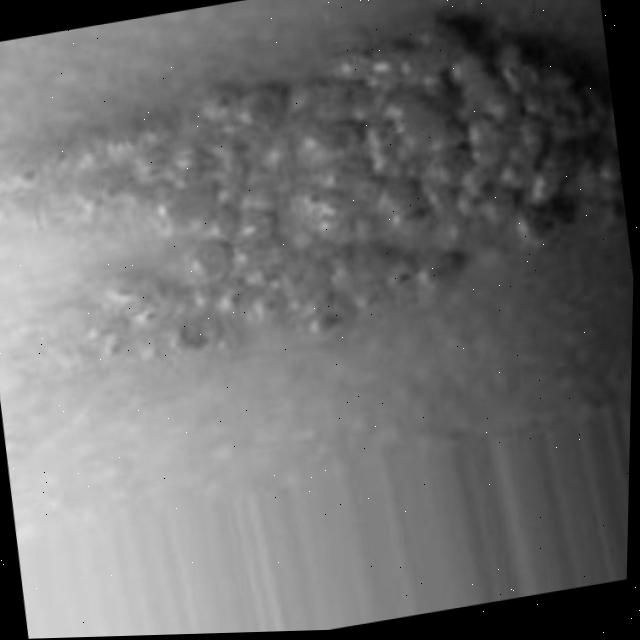Shingles: (21, 29, 638, 372)
